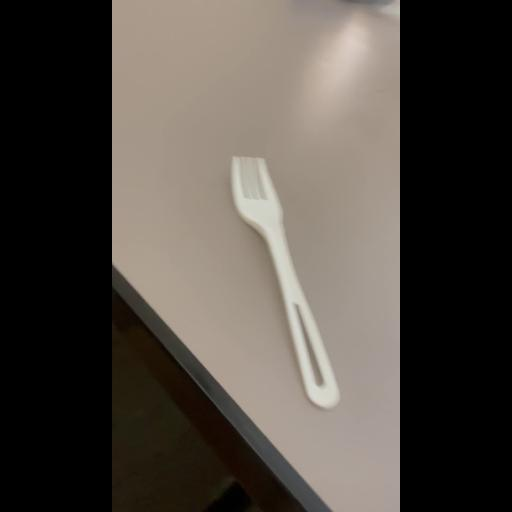utensil: (226, 144, 358, 410)
